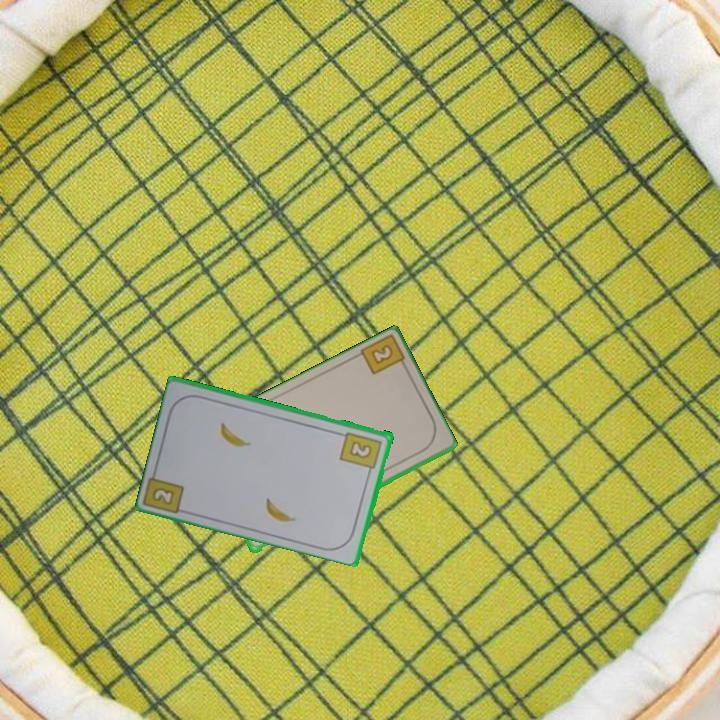2b: (356, 333, 411, 378), (337, 428, 385, 477), (149, 484, 178, 508)
